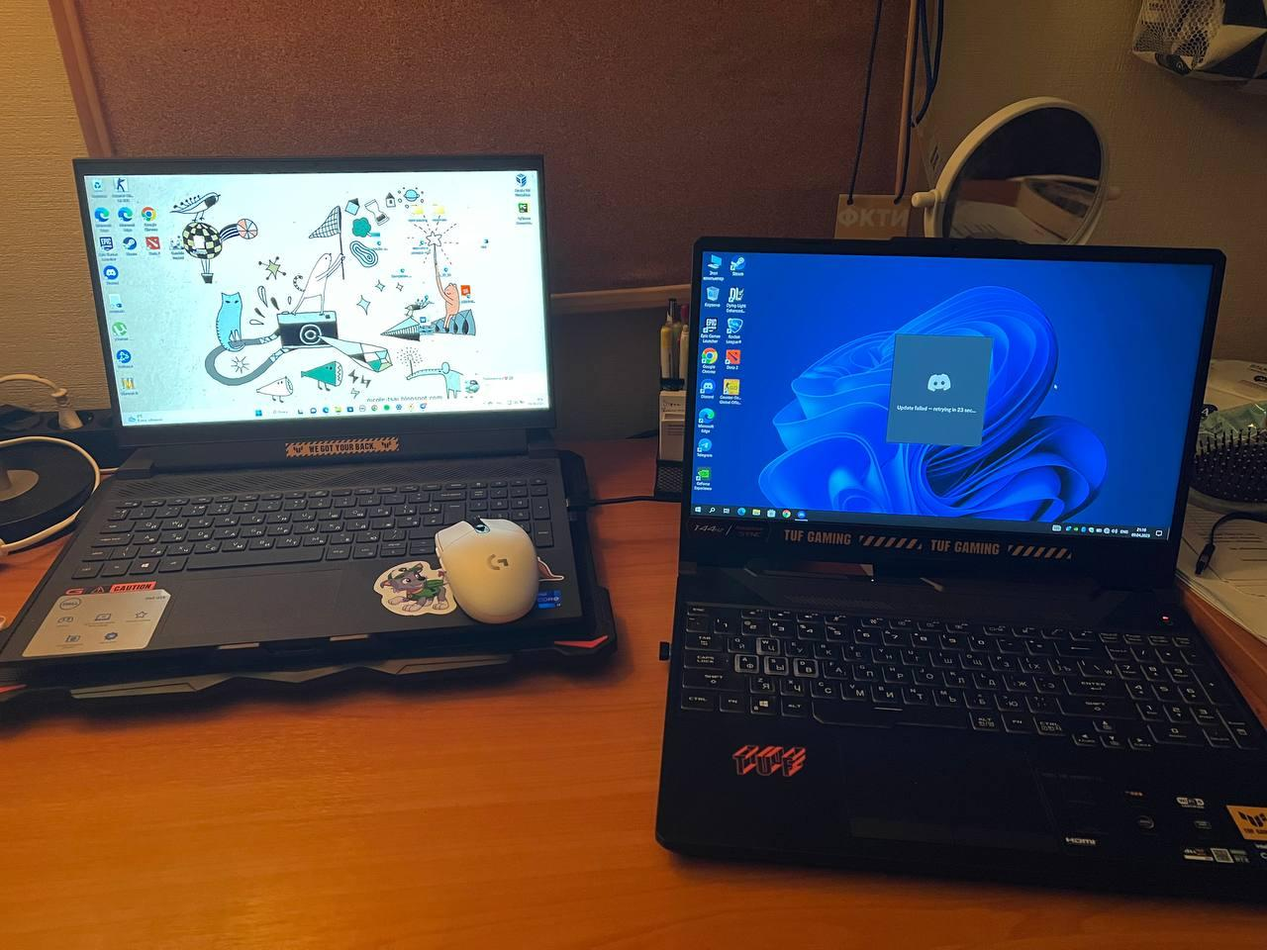monitor: (677, 223, 1230, 593), (69, 155, 563, 466)
